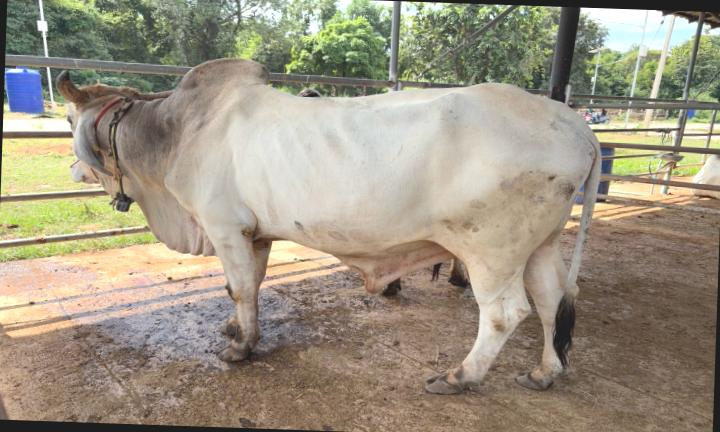Brahman: (57, 58, 601, 392)
